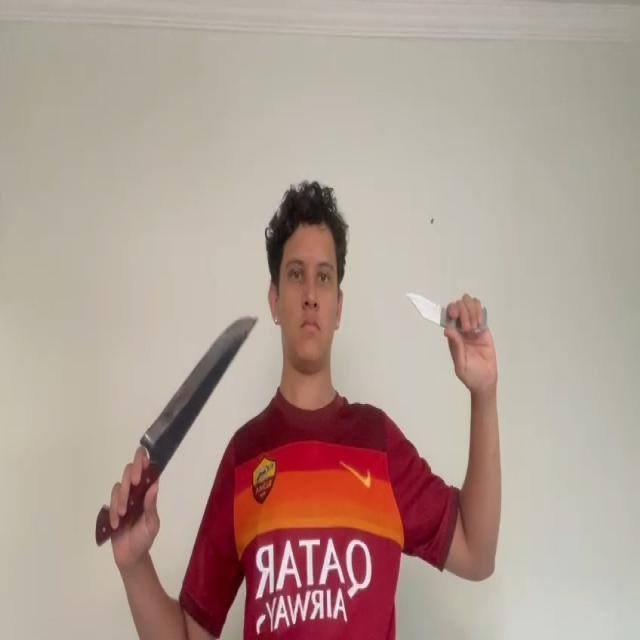knife: (141, 318, 258, 450), (408, 292, 442, 328)
